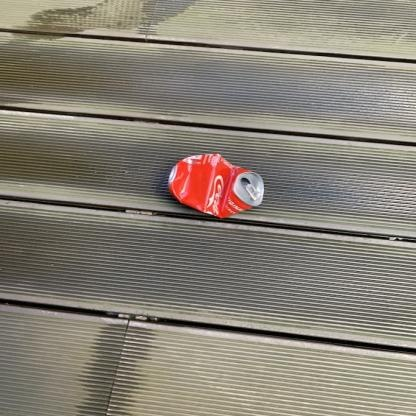trash: (168, 153, 263, 217)
